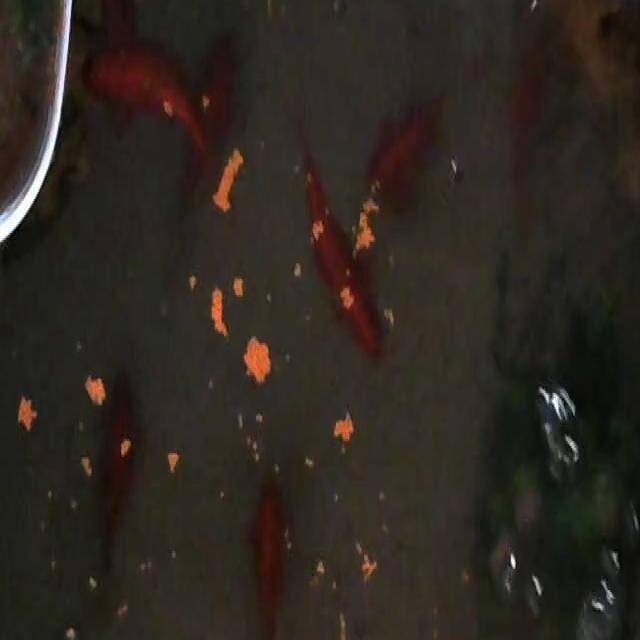fish: (295, 117, 385, 367), (83, 39, 215, 167), (364, 89, 446, 218), (95, 369, 143, 577), (248, 469, 289, 640), (507, 35, 554, 182), (93, 0, 135, 55)
